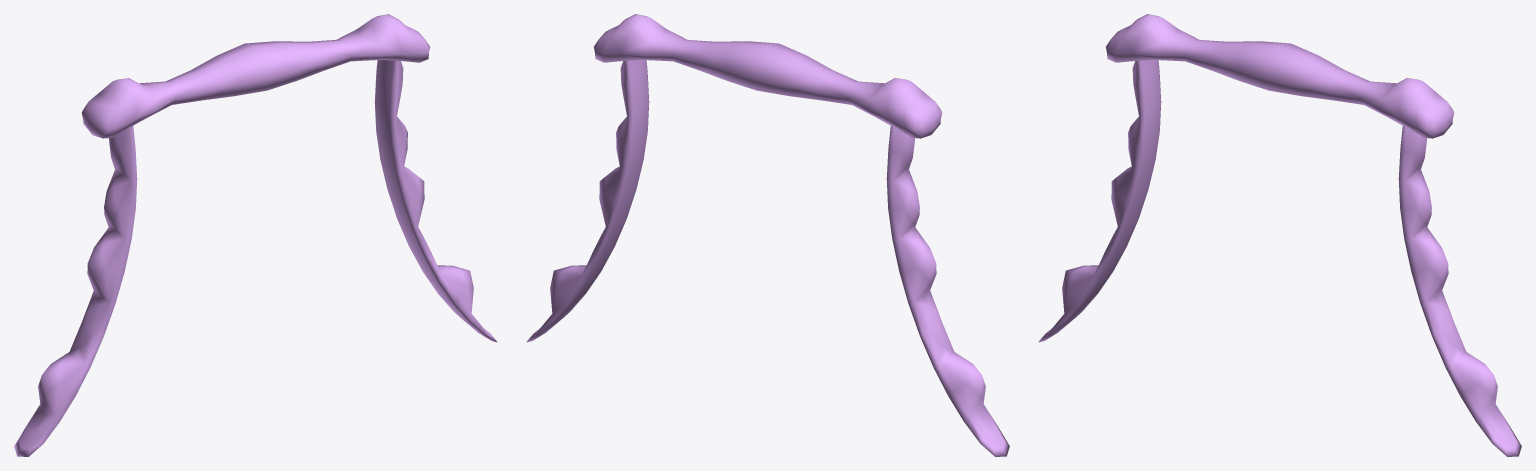
The model's file is ytlds_Object (35).fbx.
The picture shows the model from 3 angles, left to right: view 1: azimuth 30°, elevation 25°; view 2: azimuth 150°, elevation 25°; view 3: azimuth 330°, elevation 25°; orthographic projection.
Visible parts, largest first — view 1: Object35; view 2: Object35; view 3: Object35.
Part boxes in pixels (bbox=[...]): Object35: bbox=[14, 14, 497, 456]; Object35: bbox=[526, 14, 1009, 456]; Object35: bbox=[1038, 14, 1521, 456].
Size of the model in its own units: 568 by 399 by 62.08.
